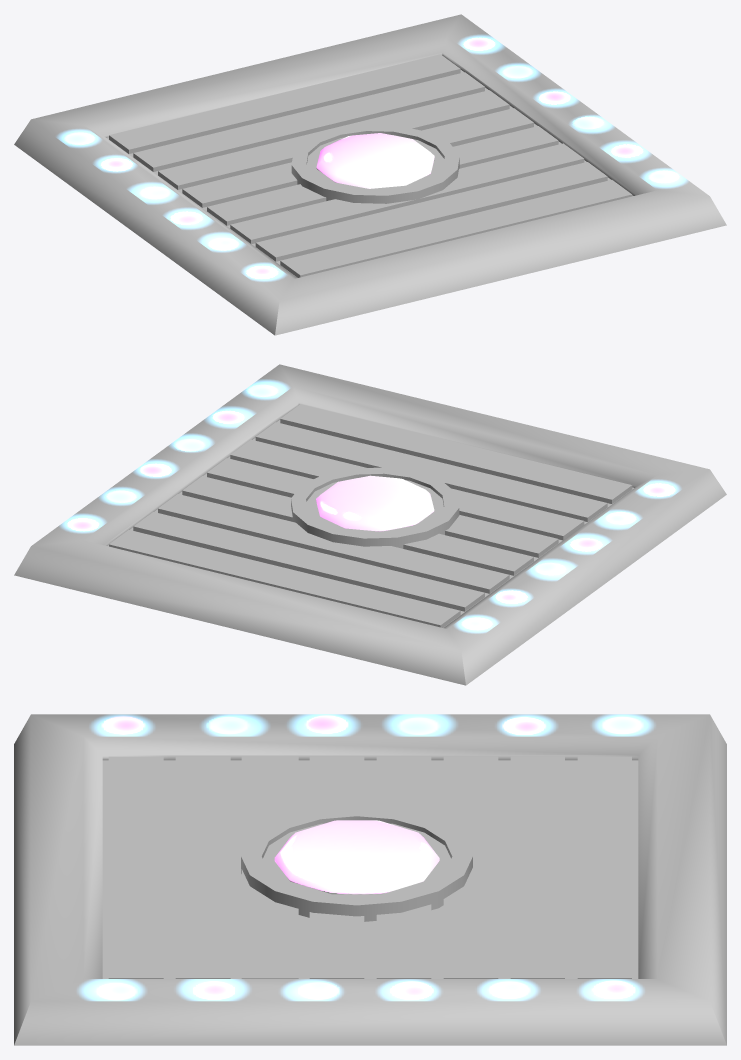
Rendered from doge scifi path.fbx.
The picture shows the model from 3 angles, top to bottom: view 1: azimuth 30°, elevation 25°; view 2: azimuth 150°, elevation 25°; view 3: azimuth 270°, elevation 25°; orthographic projection. The views are drawn at different scales.
Visible parts, largest first — view 1: Bridge; view 2: Bridge; view 3: Bridge.
Boxes of the visible parts, x1=… form: Bridge: x1=14, y1=14, x2=726, y2=335; Bridge: x1=14, y1=364, x2=726, y2=685; Bridge: x1=14, y1=714, x2=726, y2=1045.
Size of the model in its own units: 805 by 71.9 by 805.
